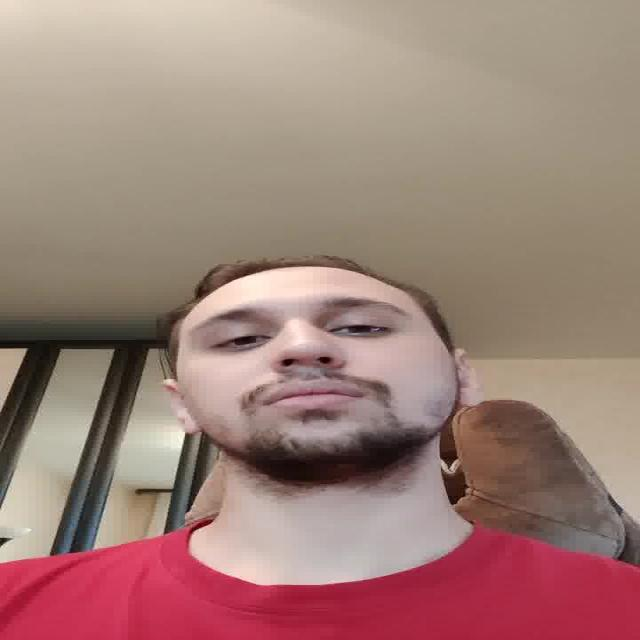earlobe: (176, 422, 207, 436), (458, 395, 484, 408)
eye: (207, 330, 273, 350), (324, 322, 391, 337)
nose: (272, 360, 349, 381)
wholeear: (160, 379, 206, 435), (453, 348, 481, 407)
